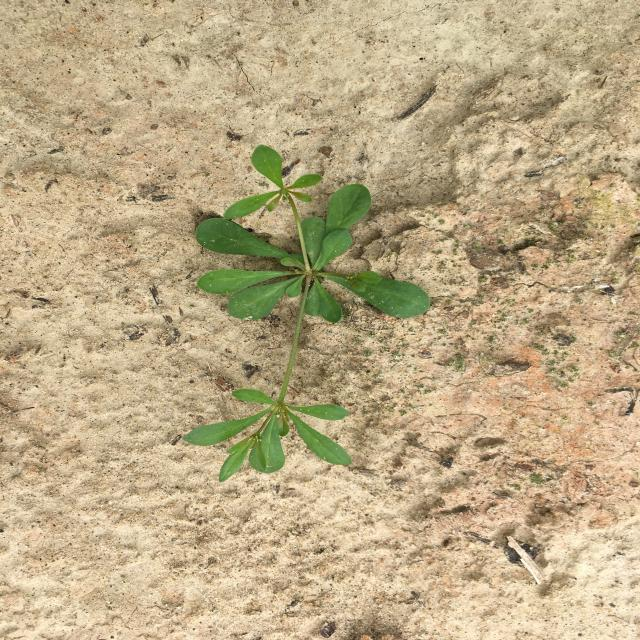Carpetweed: (182, 145, 430, 483)
